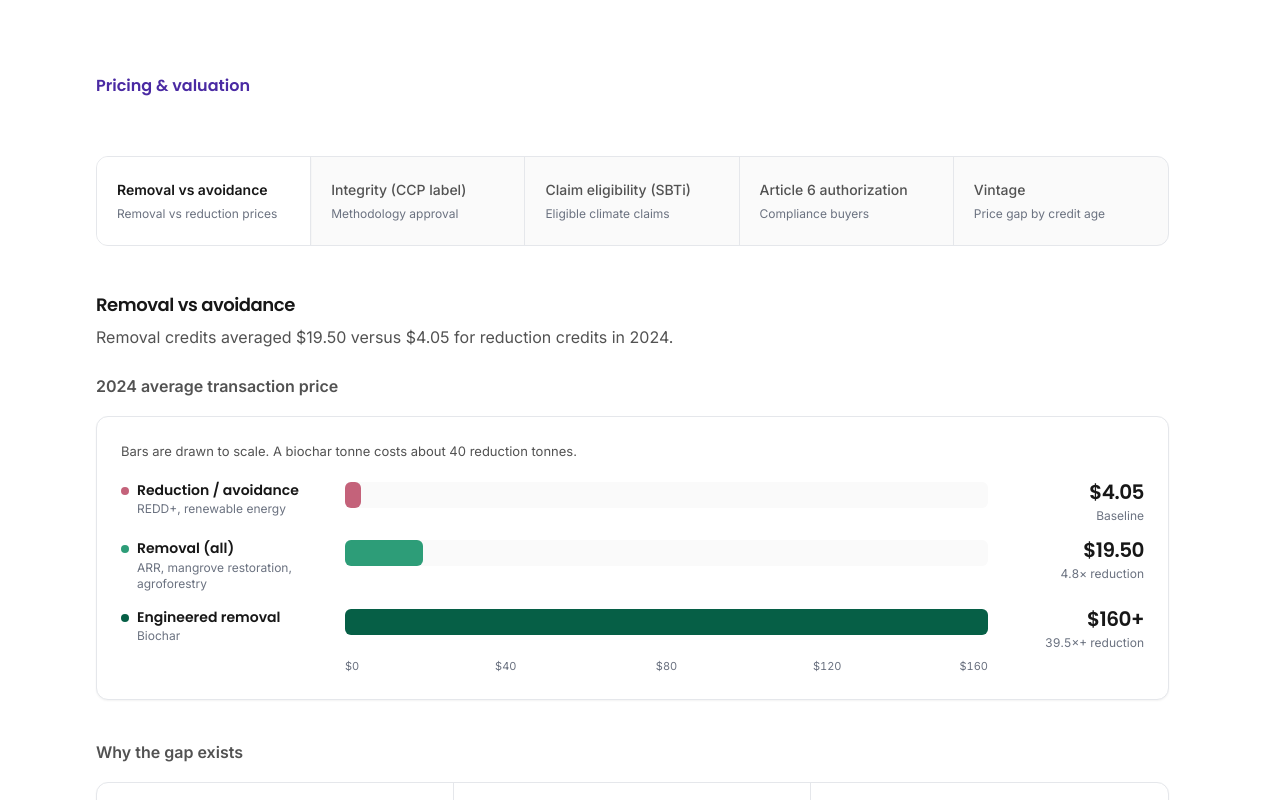
Test: Pricing page › shows the compliance evidence and source links when selected
This screenshot has width=1280, height=800.
Click the tab "Article 6 authorization Compliance buyers".
click(847, 201)  # box x1=740 y1=157 x2=954 y2=245
(page scrolled)
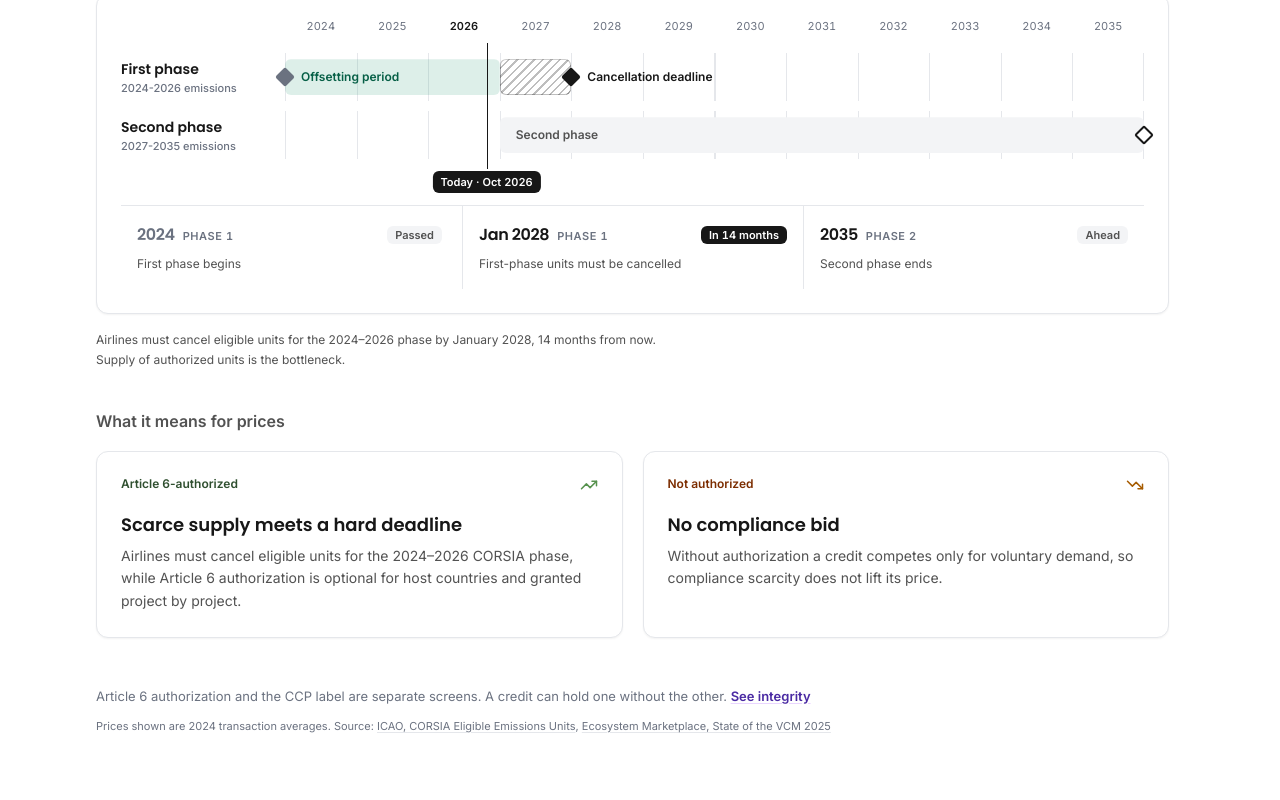
Expected: the link "ICAO, CORSIA Eligible Emissions Units" is shown, x1=377 y1=719 x2=576 y2=733
